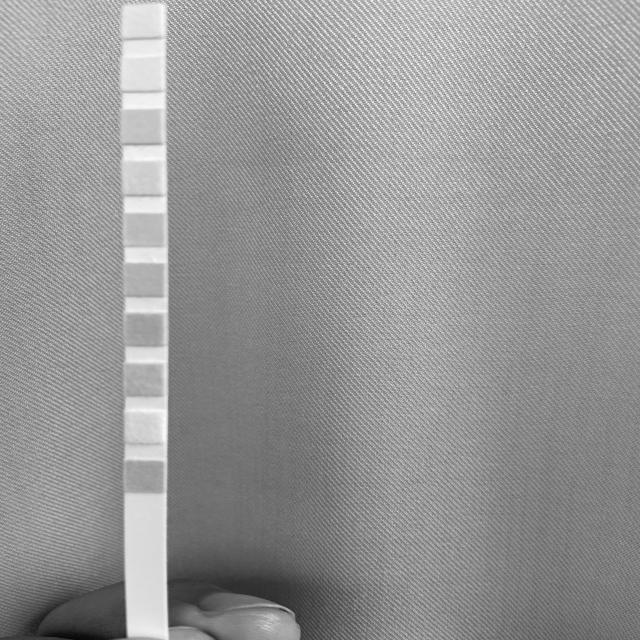Bilirubin: (127, 412, 163, 442)
Blood: (125, 265, 163, 296)
Glucose: (126, 461, 163, 492)
Ketone: (126, 364, 162, 396)
Leukocytes: (124, 6, 161, 36)
Nitrite: (124, 60, 158, 90)
Protein: (125, 162, 162, 194)
SpGravity: (126, 314, 162, 344)
Urobilinogen: (122, 111, 160, 142)
background: (0, 0, 640, 640)
pH: (126, 215, 164, 244)
strip: (122, 5, 169, 630)
